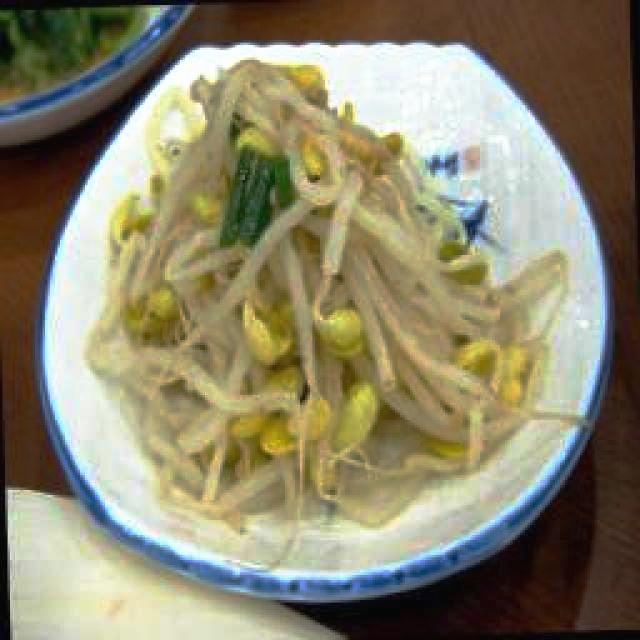mung_bean_sprouts: (113, 57, 551, 518)
